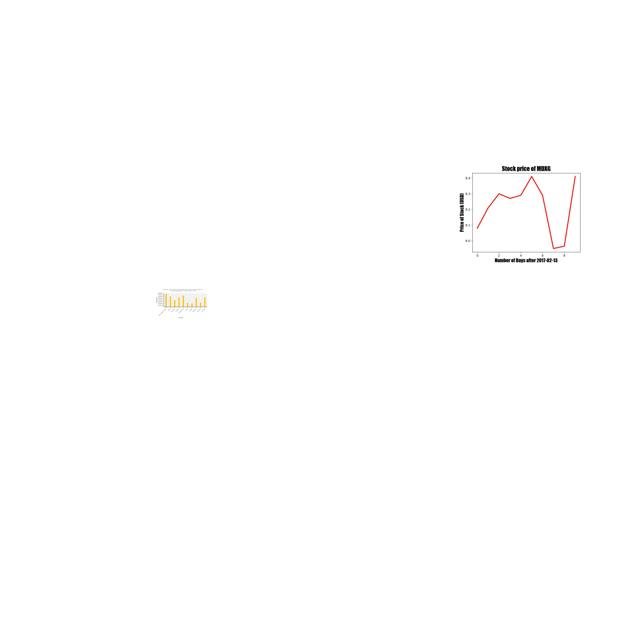Graph: (455, 160, 594, 264), (155, 288, 208, 319)
